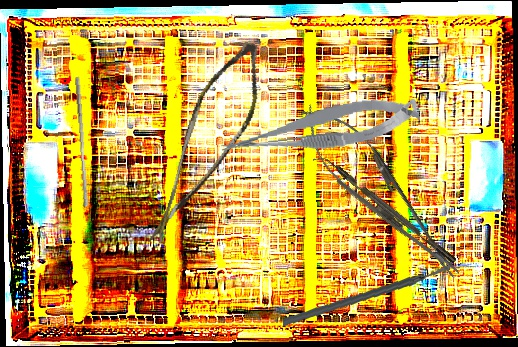Chopper: (282, 240, 456, 342), (312, 149, 457, 271)
Micro Scissor: (146, 30, 272, 260), (218, 93, 422, 161)
Needle Holder: (285, 90, 477, 296)
Pusher: (69, 76, 94, 208)
